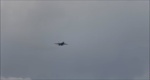maybay_muctieu: (53, 39, 67, 47)
